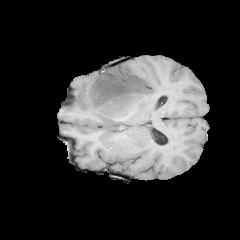glioma: (70, 64, 165, 133)
